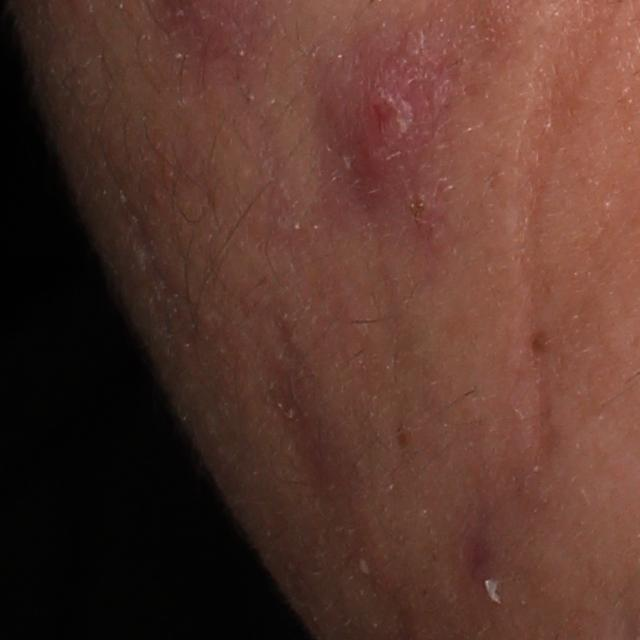atrophic_scar: (249, 312, 376, 535), (513, 338, 572, 468)
nodule: (312, 21, 476, 217)
